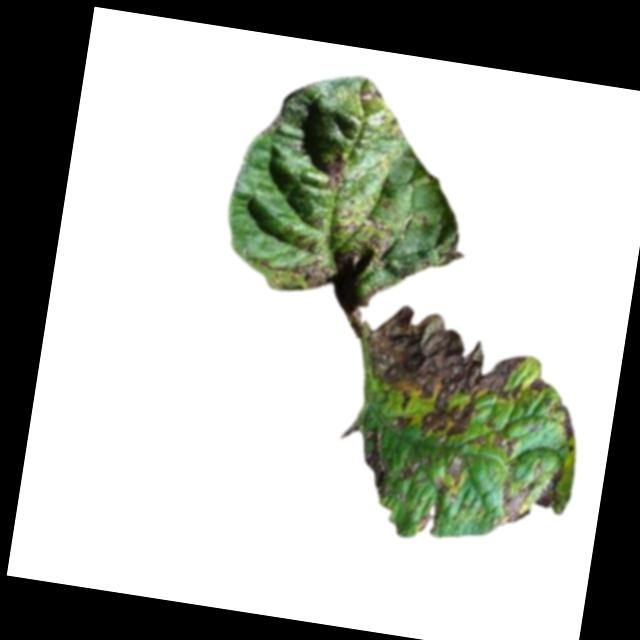Early_blight: (355, 299, 536, 454), (256, 195, 402, 303), (330, 422, 398, 499), (494, 471, 537, 530), (535, 459, 569, 511), (396, 450, 431, 488), (317, 150, 348, 192), (557, 403, 581, 453), (414, 499, 445, 537), (444, 451, 470, 487), (490, 432, 520, 459), (530, 376, 551, 393), (432, 476, 451, 494), (358, 84, 376, 101)
